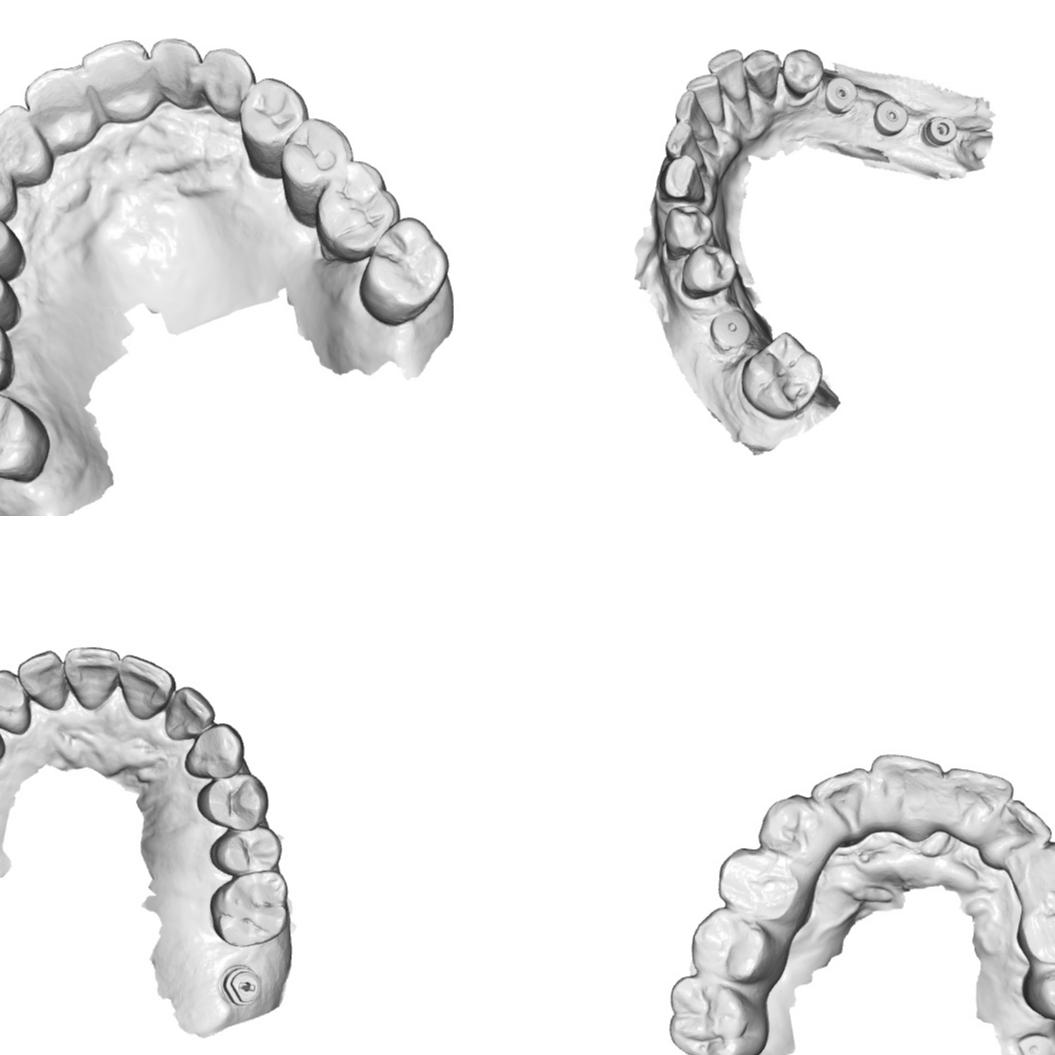canine: (756, 791, 825, 867), (199, 46, 257, 121), (182, 721, 247, 780), (1013, 839, 1055, 906), (656, 154, 706, 203), (0, 668, 33, 736), (742, 48, 782, 101), (0, 151, 19, 221)
implant: (709, 308, 751, 352), (872, 97, 910, 137), (823, 76, 859, 116), (922, 115, 958, 148)
implant_minus: (220, 965, 265, 1007)
incisor: (867, 751, 946, 827), (20, 66, 95, 146), (78, 38, 152, 114), (811, 765, 874, 846), (981, 798, 1054, 866), (939, 764, 1015, 828), (148, 36, 207, 105), (118, 652, 177, 721), (62, 645, 122, 712), (0, 103, 50, 182), (16, 648, 68, 712), (163, 684, 217, 741), (672, 88, 716, 144), (706, 48, 748, 104), (663, 119, 706, 172), (685, 74, 725, 126)
molar: (359, 215, 452, 321), (313, 159, 397, 262), (667, 974, 765, 1055), (740, 330, 824, 420), (207, 868, 291, 948), (0, 388, 43, 479)
premolar: (687, 904, 774, 984), (715, 844, 797, 926), (279, 115, 354, 198), (238, 75, 309, 156), (195, 772, 270, 833), (207, 823, 284, 877), (679, 241, 738, 300), (662, 204, 716, 264), (1014, 898, 1055, 966), (1019, 960, 1055, 1026), (781, 47, 825, 100), (0, 258, 20, 320), (0, 210, 22, 266)
